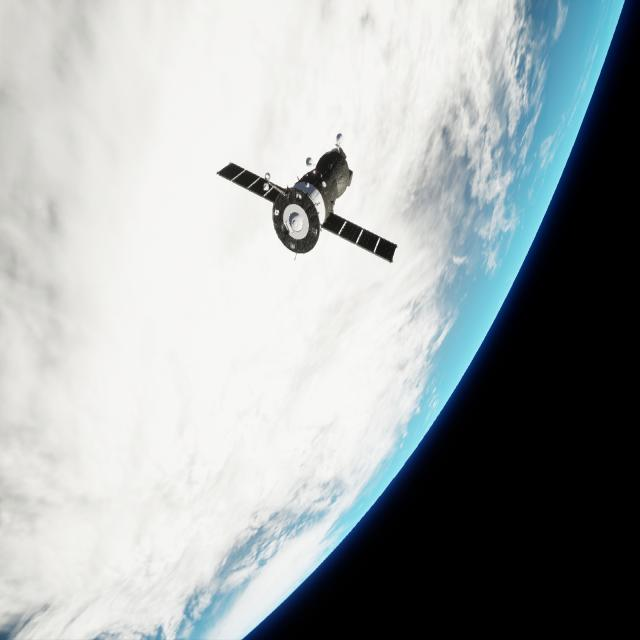Satellites revolving around earth: (215, 130, 399, 267)
